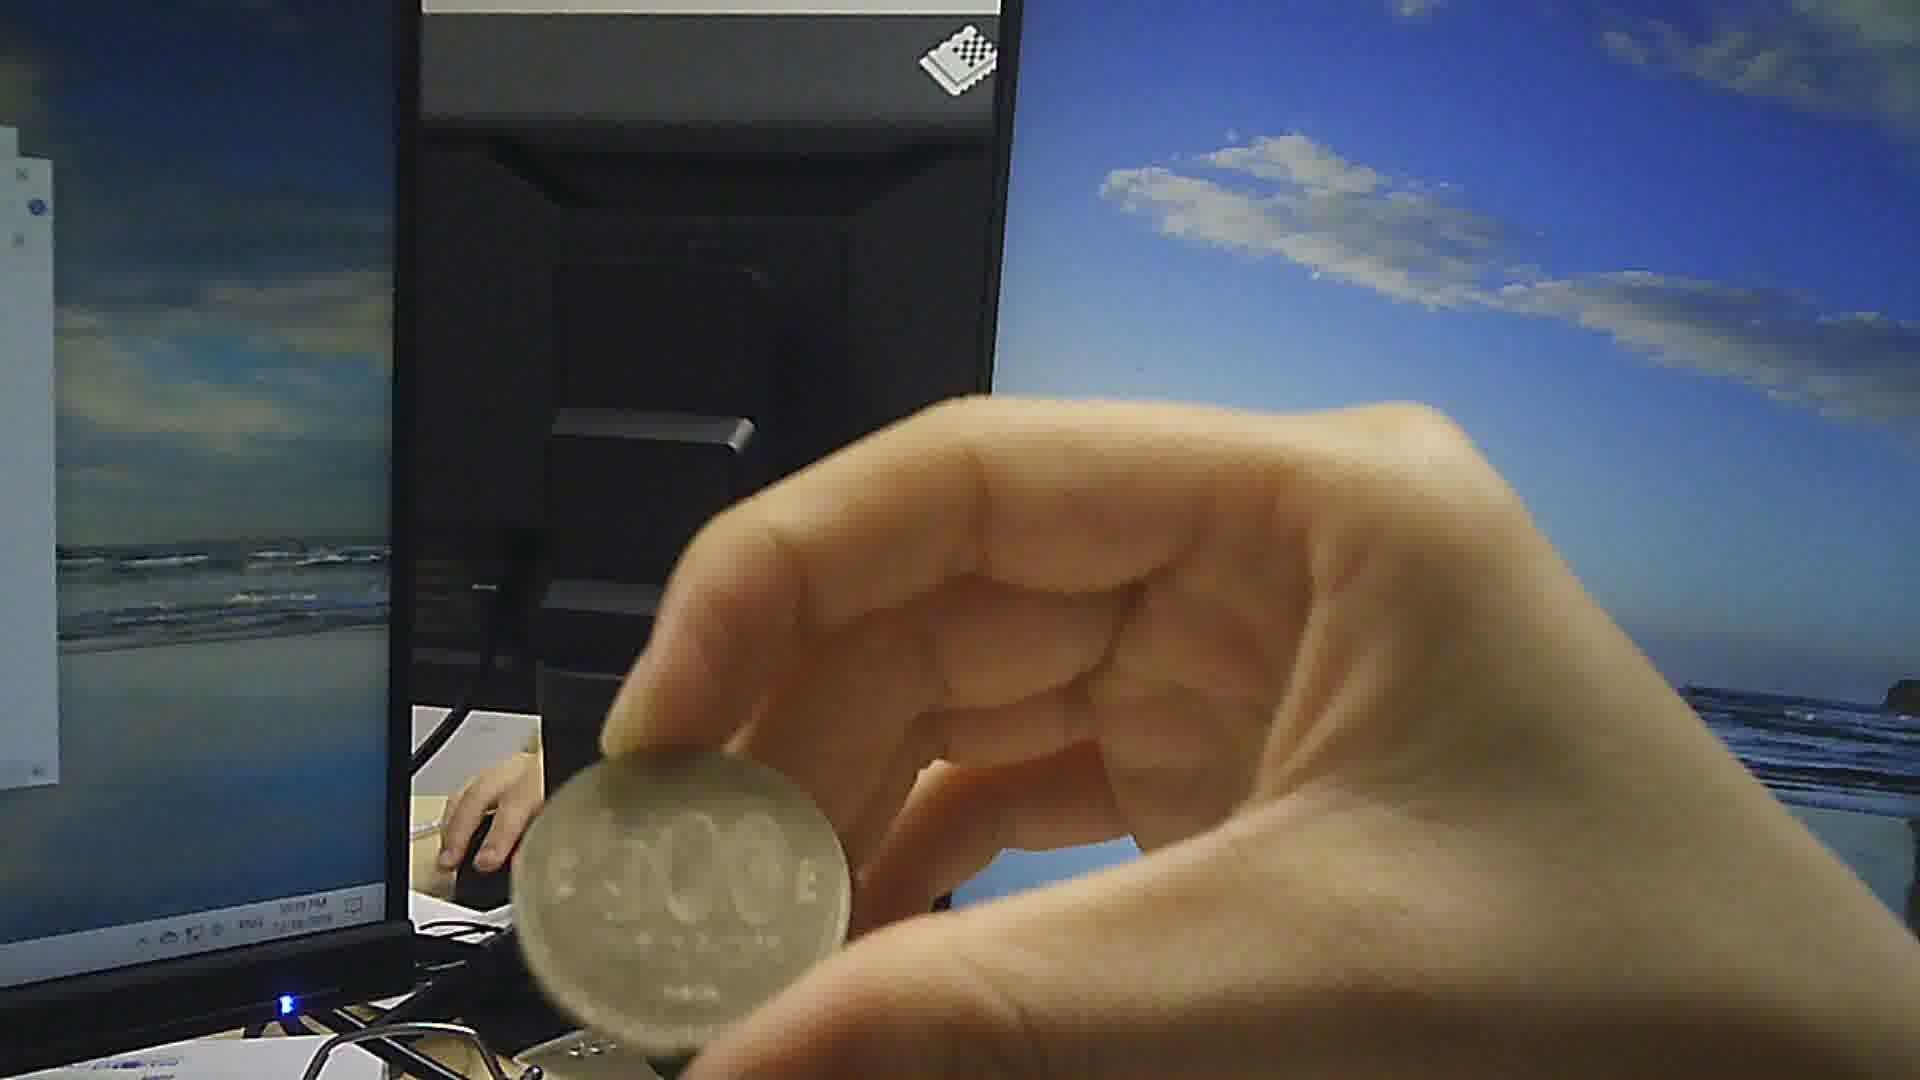500 Yen: (502, 729, 857, 1047)
